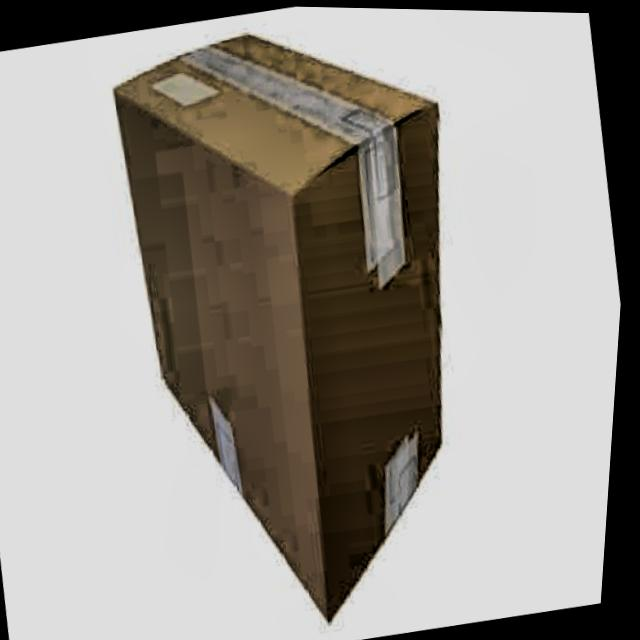Cardbox: (81, 4, 556, 640)
